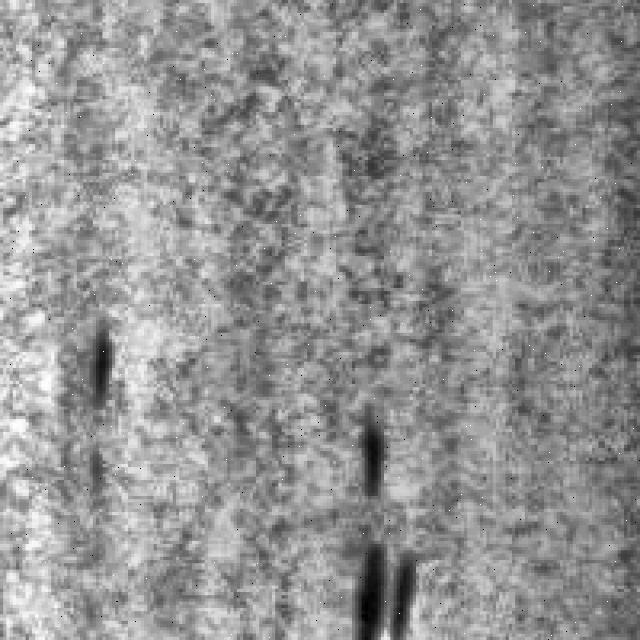Patches: (336, 528, 419, 634), (70, 310, 121, 420), (342, 406, 390, 496)
